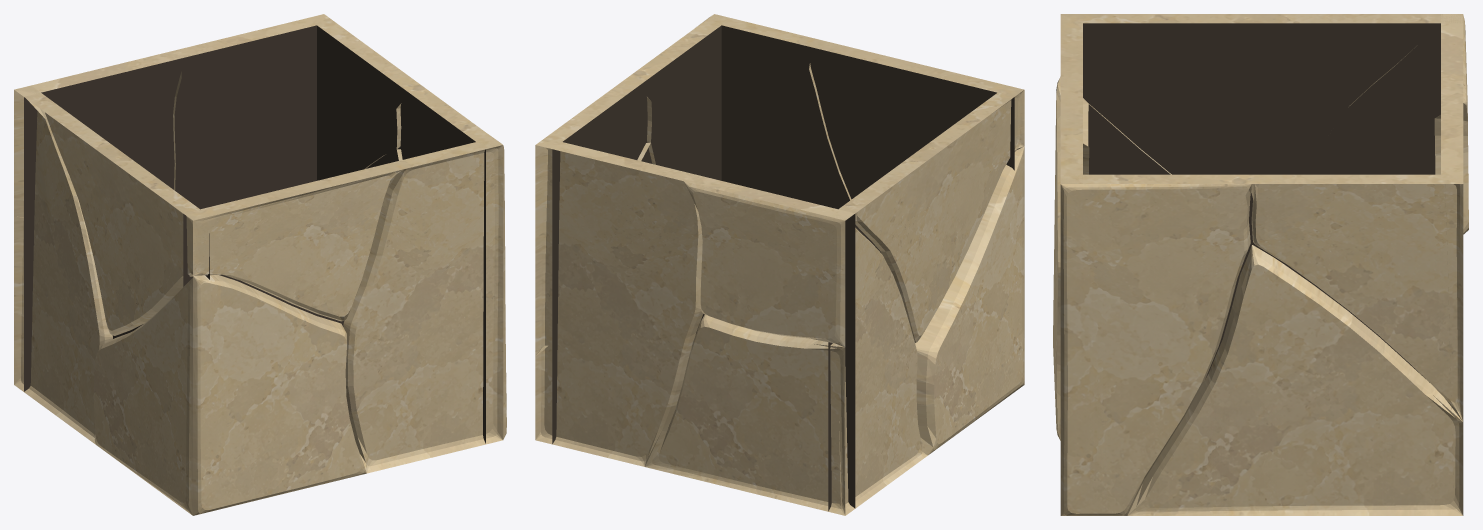
The model's file is ground_island_06.glb.
The picture shows the model from 3 angles, left to right: view 1: azimuth 30°, elevation 25°; view 2: azimuth 150°, elevation 25°; view 3: azimuth 270°, elevation 25°; orthographic projection. The views are drawn at different scales.
Parts seen in each view (by area): view 1: GroundIsland06_Body; view 2: GroundIsland06_Body; view 3: GroundIsland06_Body.
Boxes of the visible parts, <box> form: GroundIsland06_Body: <box>14,14,506,515</box>; GroundIsland06_Body: <box>535,14,1024,515</box>; GroundIsland06_Body: <box>1053,14,1468,515</box>.
Size of the model in its own units: 1.04 by 0.91 by 1.03.
14 materials, 13 textured.
